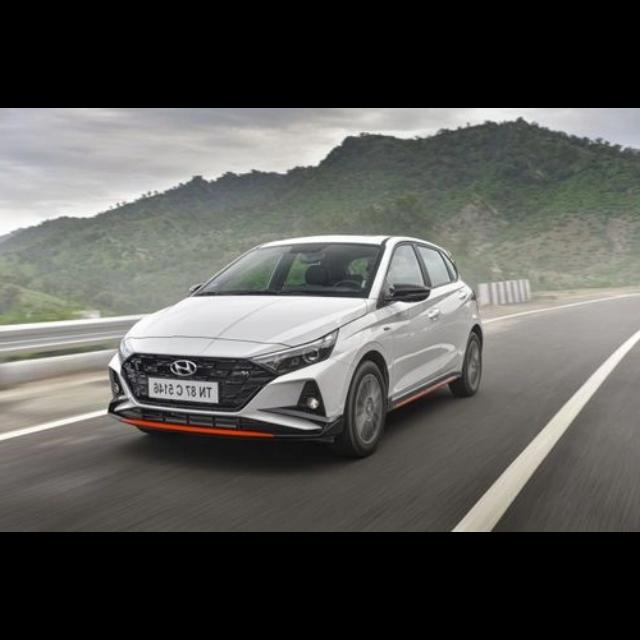number-plate: (151, 377, 219, 401)
vehicles: (113, 234, 483, 453)
